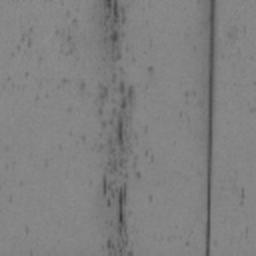Scratches: (204, 0, 216, 256)
